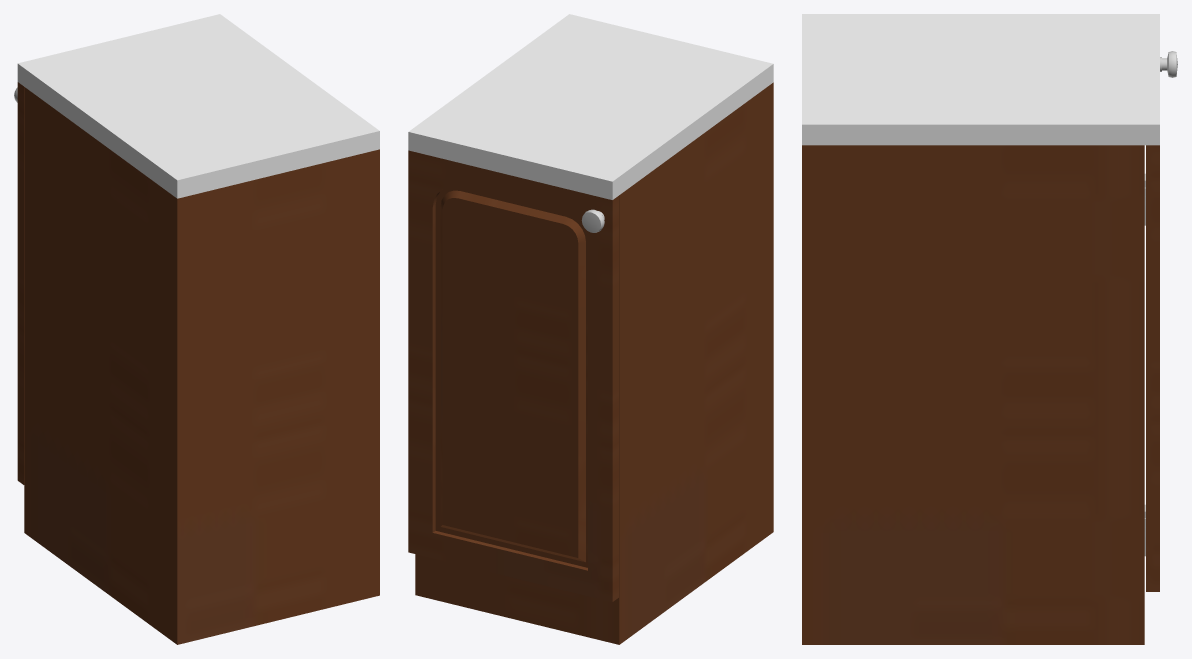
File: CabinetC02.glb
3 views of the same model, side by side, from view 1: azimuth 30°, elevation 25°; view 2: azimuth 150°, elevation 25°; view 3: azimuth 270°, elevation 25° (orthographic). The views are drawn at different scales.
Visible parts, largest first — view 1: CabinetC02_model, CabinetC02Door; view 2: CabinetC02_model, CabinetC02Door; view 3: CabinetC02_model, CabinetC02Door.
Part boxes in pixels (x1,y1,x2,y2): CabinetC02_model: (17, 14, 379, 644); CabinetC02Door: (14, 82, 24, 484); CabinetC02_model: (408, 14, 773, 644); CabinetC02Door: (408, 150, 618, 601); CabinetC02_model: (802, 14, 1159, 644); CabinetC02Door: (1144, 51, 1177, 591).
Bounding box in the file's own units: 0.9256 × 2.02 × 1.32.
1 material, 1 textured.
